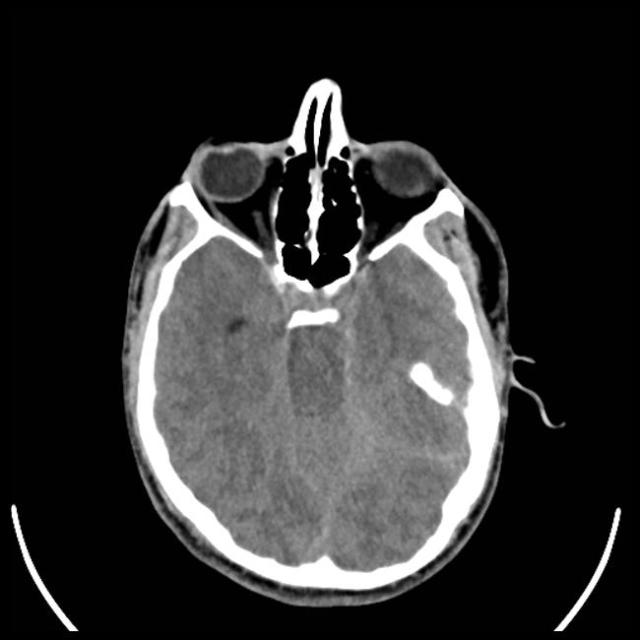lesion: (116, 76, 548, 606)
